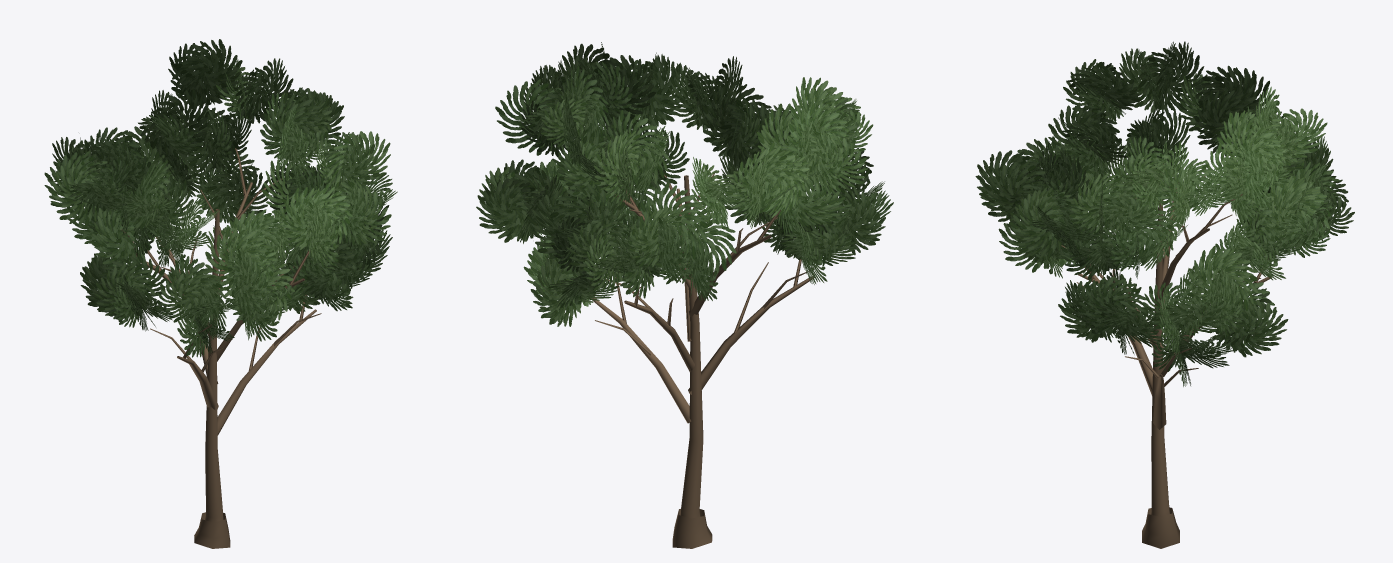
3 renders of one model, left to right at view 1: azimuth 30°, elevation 25°; view 2: azimuth 150°, elevation 25°; view 3: azimuth 270°, elevation 25°, orthographic. The views are drawn at different scales.
Parts seen in each view (by area): view 1: Preserved terminal foliage sprays, Connected simplified trunk and branches; view 2: Preserved terminal foliage sprays, Connected simplified trunk and branches; view 3: Preserved terminal foliage sprays, Connected simplified trunk and branches.
Boxes of the visible parts, bbox=[...] form: Preserved terminal foliage sprays: bbox=[44, 39, 397, 357]; Connected simplified trunk and branches: bbox=[121, 148, 321, 548]; Preserved terminal foliage sprays: bbox=[476, 42, 893, 326]; Connected simplified trunk and branches: bbox=[590, 173, 813, 548]; Preserved terminal foliage sprays: bbox=[975, 41, 1354, 386]; Connected simplified trunk and branches: bbox=[1061, 164, 1271, 548].
Bounding box in the file's own units: 8.68 × 10.06 × 8.
